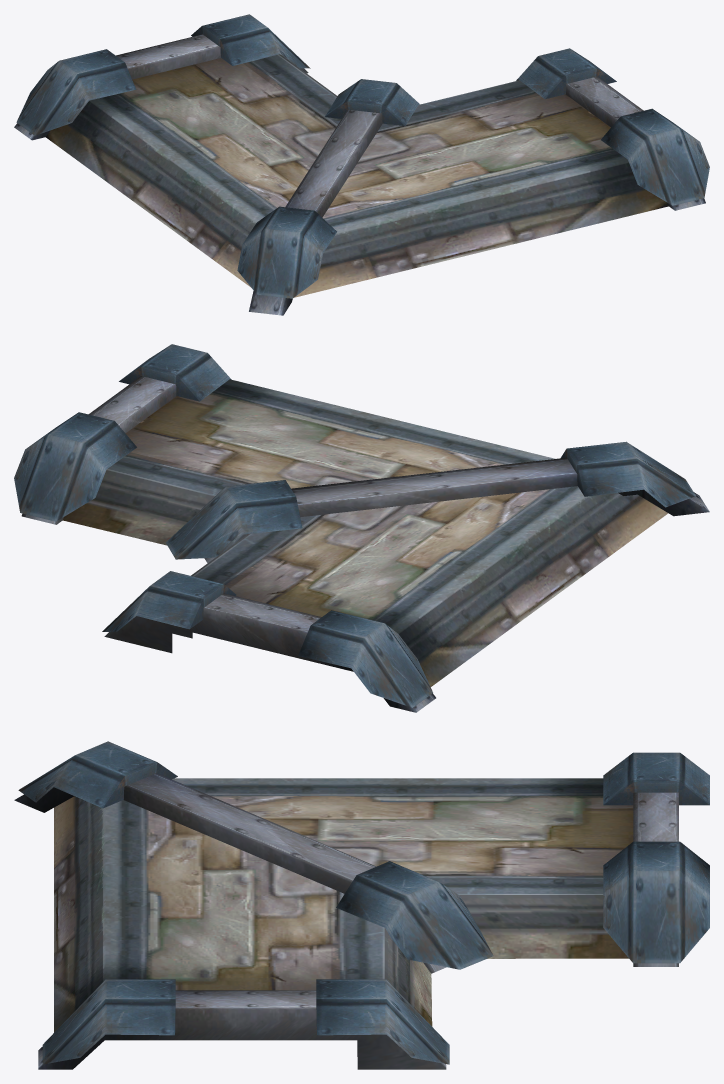
Rendered from obj_madaprroad90l01.glb.
3 views of the same model, one above another, from view 1: azimuth 30°, elevation 25°; view 2: azimuth 150°, elevation 25°; view 3: azimuth 270°, elevation 25° (orthographic). The views are drawn at different scales.
Visible parts, largest first — view 1: part_0; view 2: part_0; view 3: part_0.
Boxes of the visible parts, bbox=[...] form: part_0: bbox=[14, 14, 709, 315]; part_0: bbox=[14, 344, 709, 712]; part_0: bbox=[14, 741, 709, 1069].
Size of the model in its own units: 10.04 by 1.12 by 9.98.
Materials: 1 (1 with a texture image).
